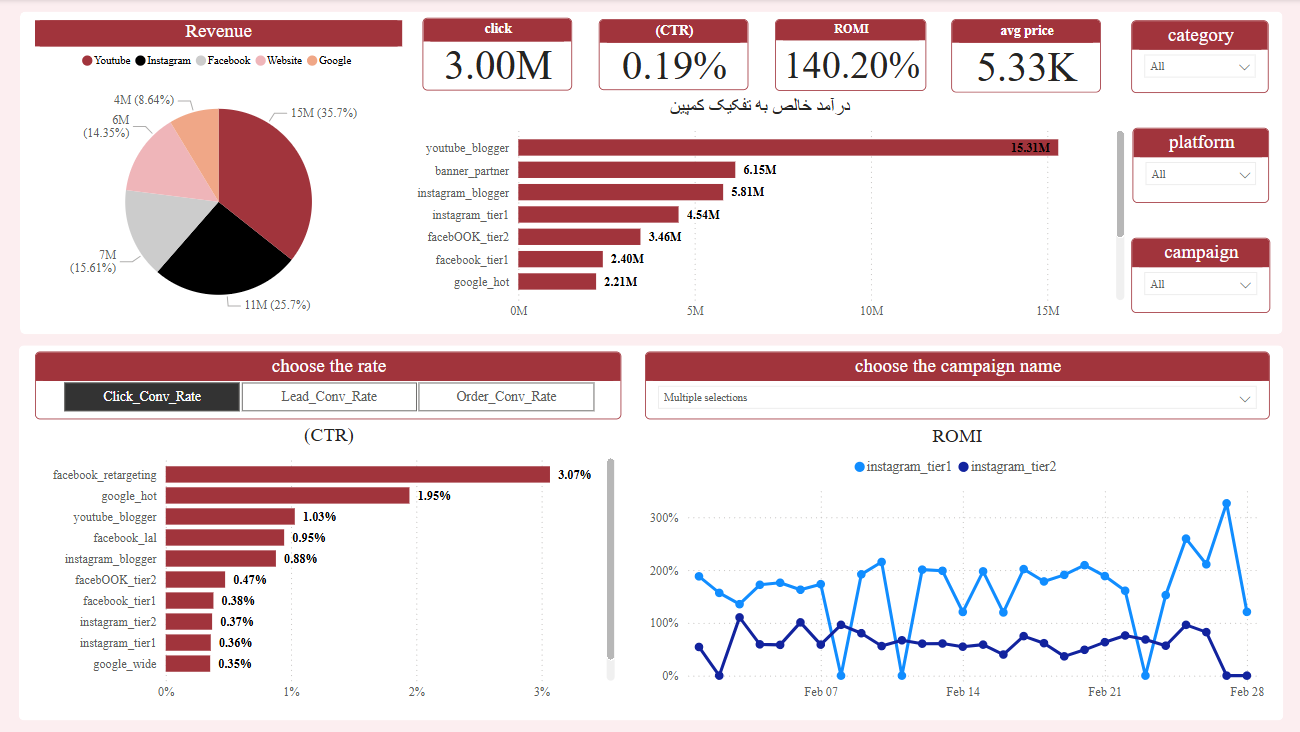

The dashboard page shown, as its layout file describes it:
{"tool":"powerbi","page":{"name":"ff","canvas":[1280,720],"ordinal":1},"visuals":[{"type":"shape","box":[24.8,12.4,1235.2,315.7],"z":0},{"type":"shape","box":[485,340.5,492.2,328.1],"z":1000},{"type":"shape","box":[23.6,338.9,1237.8,367.4],"z":2000},{"type":"lineChart","title":"(ROMI) مقایسه نرخ بازگشت سرمایه ","fields":{"Category":["Marketing.c_date"],"Series":["Marketing.campaign_name"],"Y":["Measures (2).ROMI"]},"box":[635.6,417.5,611,276],"z":3000},{"type":"slicer","title":"نام کمپین های مورد نظر را انتخاب نمایید","fields":{"Values":["Marketing.campaign_name"]},"box":[635.8,344.9,610.9,66.5],"z":4000},{"type":"card","title":" تعداد کلیک","fields":{"Values":["Sum(Marketing.clicks)"]},"box":[418.5,18.6,146.3,70.9],"z":5000},{"type":"barChart","fields":{"Category":["Marketing.campaign_name"],"Y":["Measures (2).DYNAMIC_MSR"]},"box":[39.3,411.6,573.7,281.9],"z":6000},{"type":"slicer","title":"نوع نرخ تبدیل را انتخاب نمایید","fields":{"Values":["engagment.type"]},"box":[39,344.9,573.7,66.5],"z":7000},{"type":"card","title":" (ROMI) نرخ بازگشت سرمایه ","fields":{"Values":["Measures (2).ROMI"]},"box":[763.1,19.5,148.3,70.7],"z":8000},{"type":"card","title":"میانگین ارزش سفارش (ریال)","fields":{"Values":["Measures (2).rev_avg"]},"box":[935.5,19.5,146.3,71.8],"z":9000},{"type":"slicer","title":"دسته بندی","fields":{"Values":["Marketing.category"]},"box":[1111.9,20.4,134.8,70.9],"z":10000},{"type":"card","title":"(CTR) نرخ کلیک ","fields":{"Values":["Measures (2).ctr"]},"box":[591.2,19.5,146.4,69.7],"z":11000},{"type":"barChart","title":"درآمد خالص به تفکیک کمپین","fields":{"Y":["Sum(Marketing.revenue)"],"Category":["Marketing.campaign_name"]},"box":[383.9,91.2,726.9,229.9],"z":12000},{"type":"pieChart","title":"درآمد خالص به تفکیک پلتفرم","fields":{"Category":["Marketing.platform"],"Y":["Sum(Marketing.revenue)"]},"box":[39,20.4,359.1,307.7],"z":13000},{"type":"slicer","title":"پلتفرم","fields":{"Values":["Marketing.platform"]},"box":[1112.8,125.9,133.9,73.6],"z":14000},{"type":"slicer","title":"کمپین","fields":{"Values":["Marketing.campaign_name"]},"box":[1111,233.2,135.7,73.6],"z":15000}]}

Visuals, with their boxes in screenshot pixels (x1, y1, x2, y2), scaled from the page's 1280x720 canvas onto the 1300x732 screenshot:
shape: x1=25, y1=13, x2=1280, y2=334
shape: x1=493, y1=346, x2=992, y2=680
shape: x1=24, y1=345, x2=1281, y2=718
"(ROMI) مقایسه نرخ بازگشت سرمایه " lineChart: x1=646, y1=424, x2=1266, y2=705
"نام کمپین های مورد نظر را انتخاب نمایید" slicer: x1=646, y1=351, x2=1266, y2=418
" تعداد کلیک" card: x1=425, y1=19, x2=574, y2=91
barChart - Marketing.campaign_name x Measures (2).DYNAMIC_MSR: x1=40, y1=418, x2=623, y2=705
"نوع نرخ تبدیل را انتخاب نمایید" slicer: x1=40, y1=351, x2=622, y2=418
" (ROMI) نرخ بازگشت سرمایه " card: x1=775, y1=20, x2=926, y2=92
"میانگین ارزش سفارش (ریال)" card: x1=950, y1=20, x2=1099, y2=93
"دسته بندی" slicer: x1=1129, y1=21, x2=1266, y2=93
"(CTR) نرخ کلیک " card: x1=600, y1=20, x2=749, y2=91
"درآمد خالص به تفکیک کمپین" barChart: x1=390, y1=93, x2=1128, y2=326
"درآمد خالص به تفکیک پلتفرم" pieChart: x1=40, y1=21, x2=404, y2=334
"پلتفرم" slicer: x1=1130, y1=128, x2=1266, y2=203
"کمپین" slicer: x1=1128, y1=237, x2=1266, y2=312
